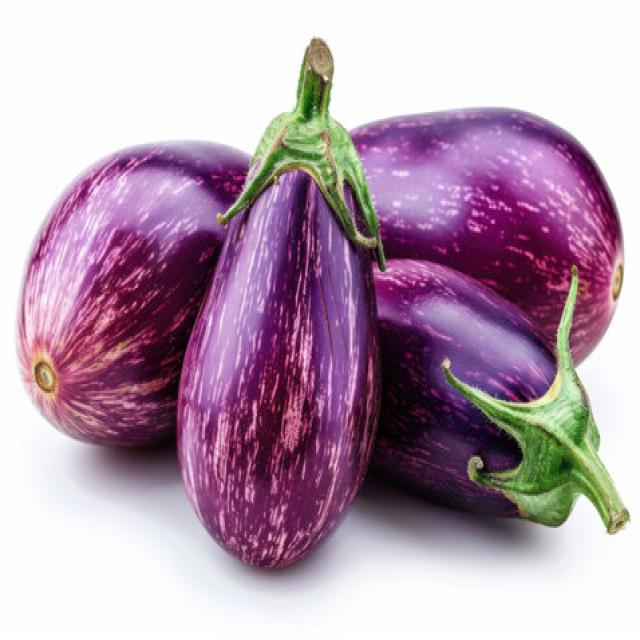Eggplant: (174, 35, 384, 569), (13, 137, 253, 450), (345, 105, 624, 370), (368, 254, 629, 534)
